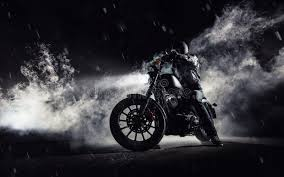motorcycle: (109, 41, 221, 150)
